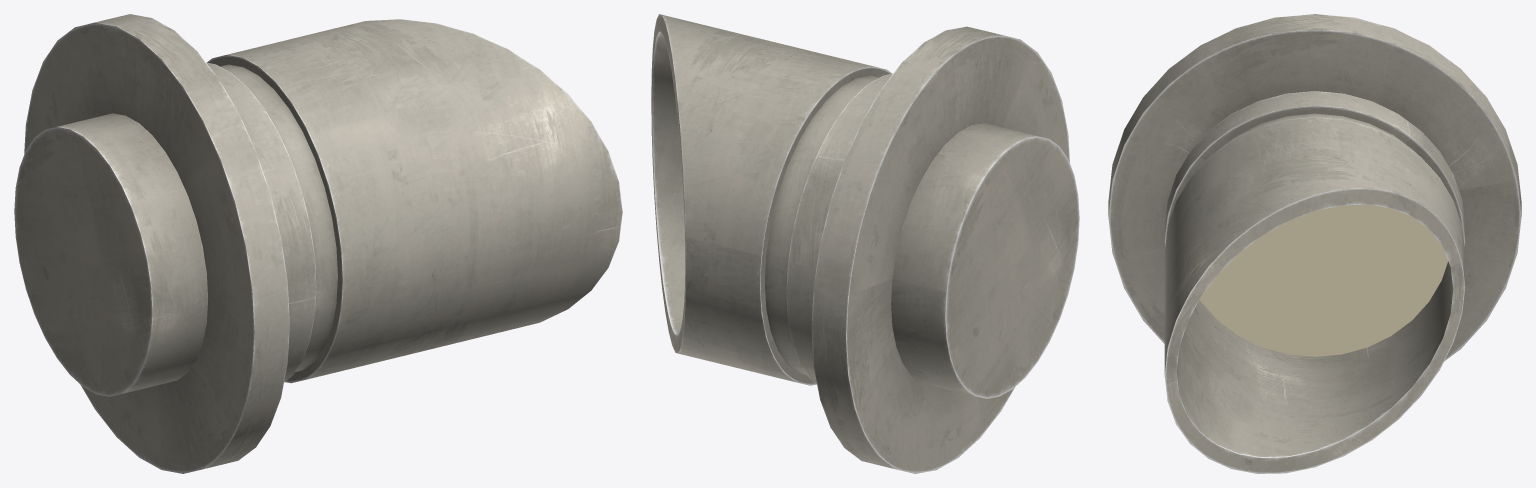
File: guard_4_c_d.glb
3 views of the same model, side by side, from view 1: azimuth 30°, elevation 25°; view 2: azimuth 150°, elevation 25°; view 3: azimuth 270°, elevation 25° (orthographic). The views are drawn at different scales.
Visible parts, largest first — view 1: guard_4_c_d_lod0; view 2: guard_4_c_d_lod0; view 3: guard_4_c_d_lod0.
Boxes of the visible parts, bbox=[...] form: guard_4_c_d_lod0: bbox=[14, 14, 622, 473]; guard_4_c_d_lod0: bbox=[651, 14, 1079, 473]; guard_4_c_d_lod0: bbox=[1108, 14, 1521, 473].
Size of what is drawn, in the model's own units: 0.0475 by 0.0417 by 0.0417.
Materials: 1 (1 with a texture image).
